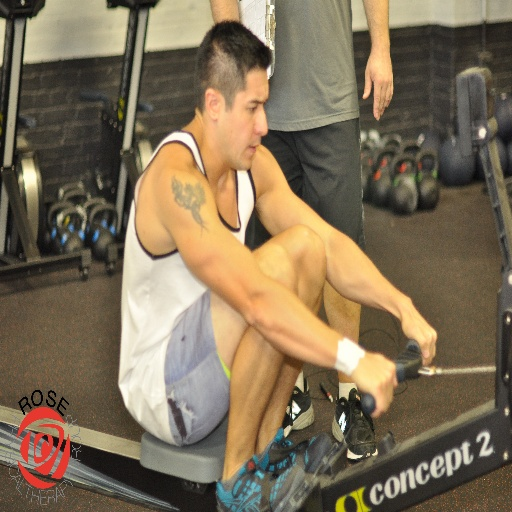hand: (360, 349, 406, 419), (398, 299, 436, 363), (362, 44, 393, 120)
